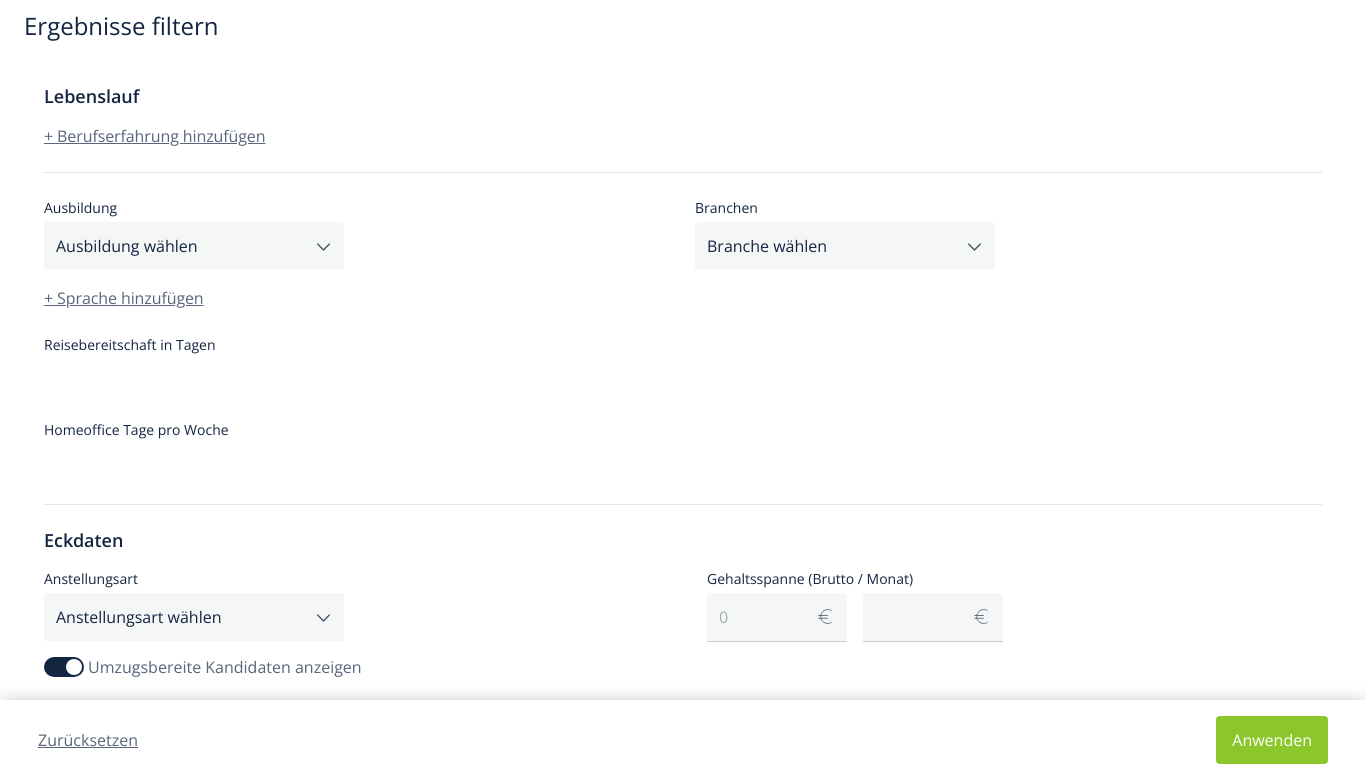
Test case: ApplicantFilterRangeInput › should show error validation message when invalid form
Note: salary filter: giving invalid form values to see validation
Type "1000" into the number field with test id "salary min" at (777, 618), box [707,593,847,642]
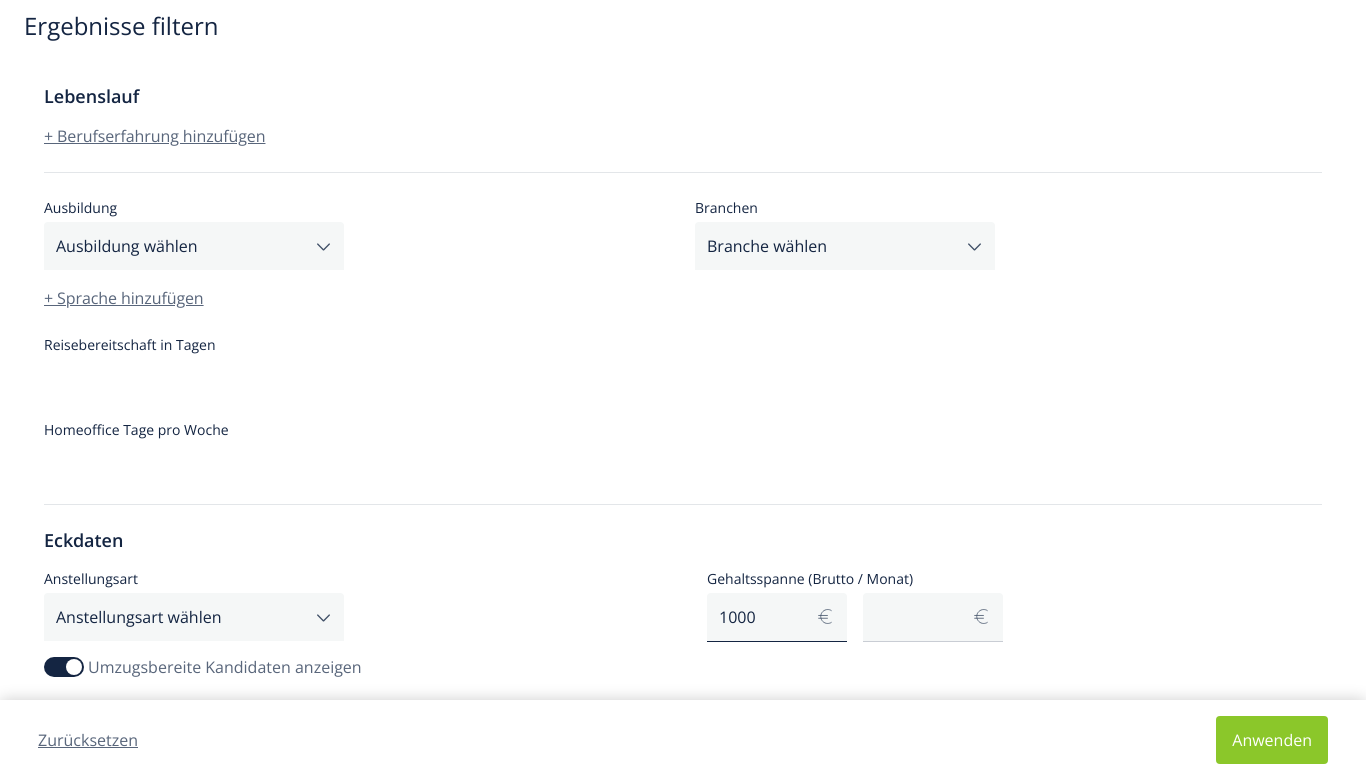
Type "200" into the number field with test id "salary max" at (933, 618), box [863,593,1003,642]
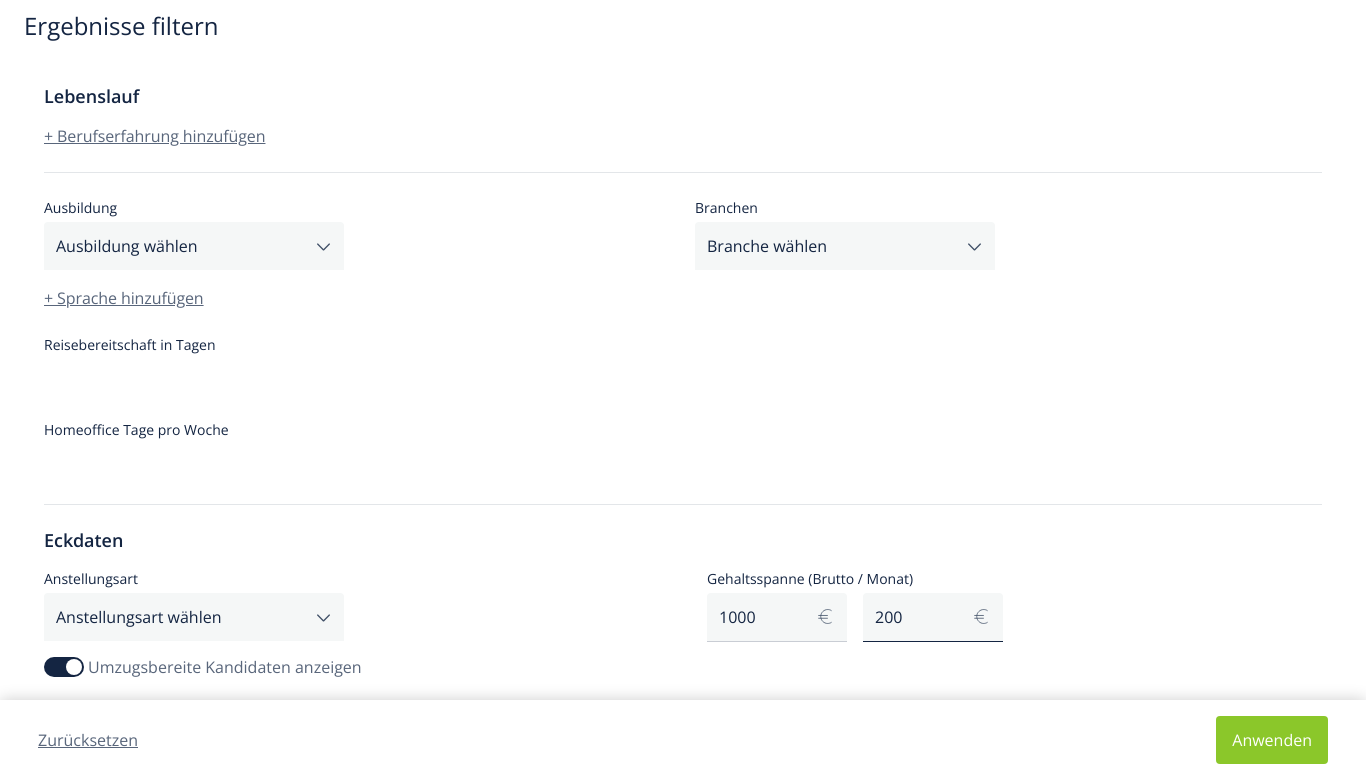
Click the button with test id "ApplicantFilterModal search button" at (1272, 740), box [1216,716,1328,764]
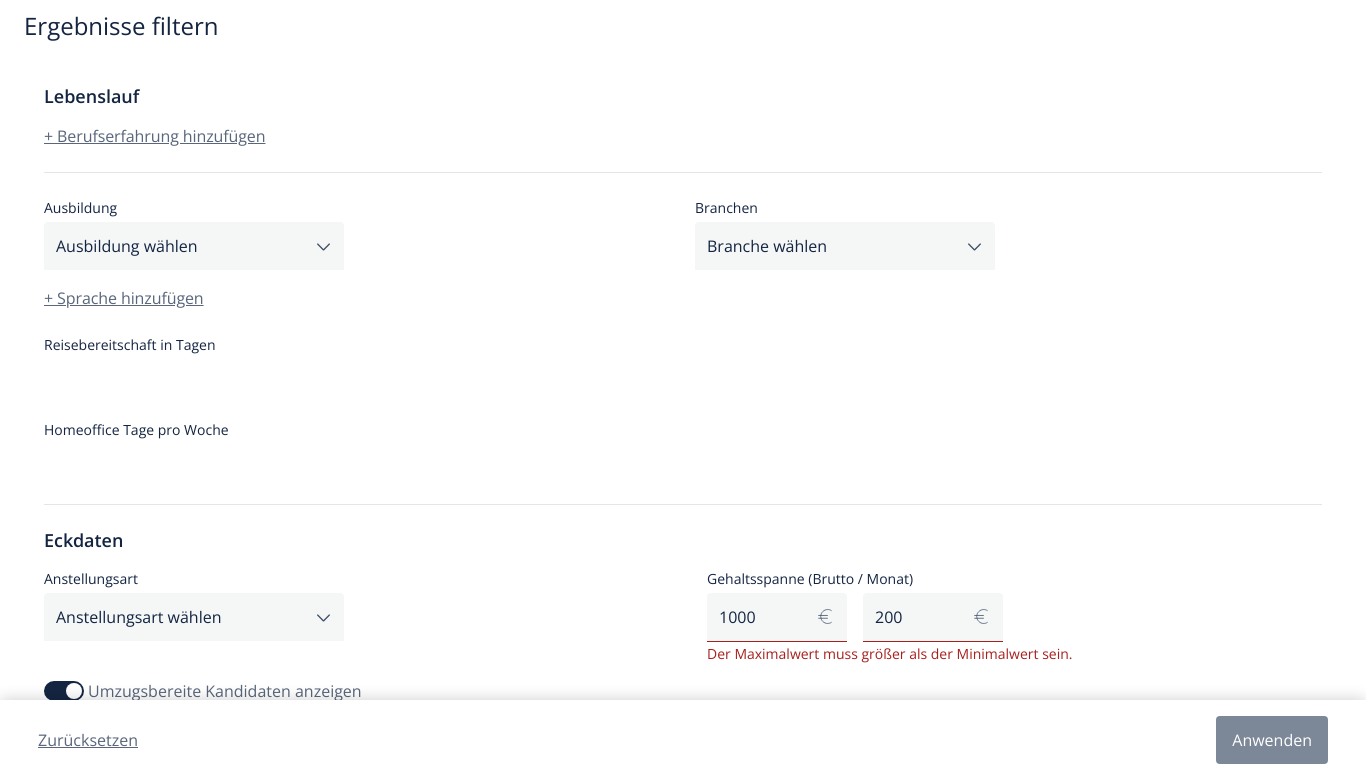
Result: the text "Der Maximalwert muss größer als der Minimalwert sein." is shown at [707,644,1072,663]
